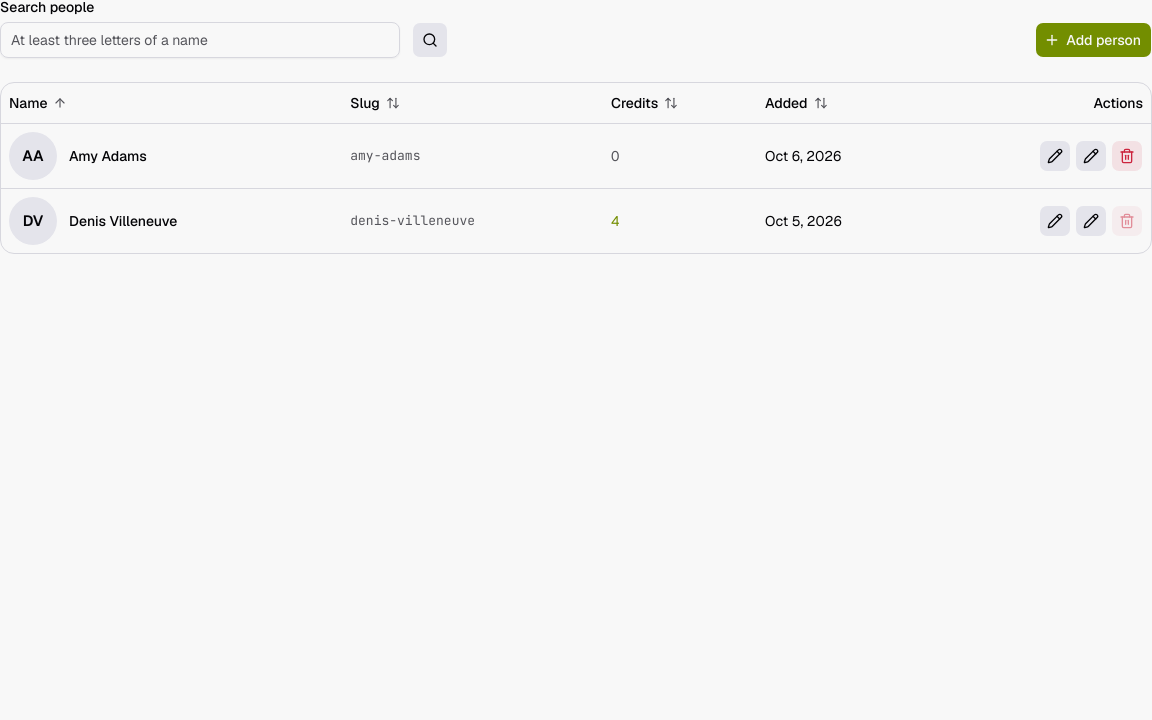
Test: PeopleView › opens a person's photo dialog from their row
The width and height of the screenshot is (1152, 720).
Click the button named "Photo" in the row of "AA". click: coordinates (1055, 156)
box: [1039,140,1071,172]
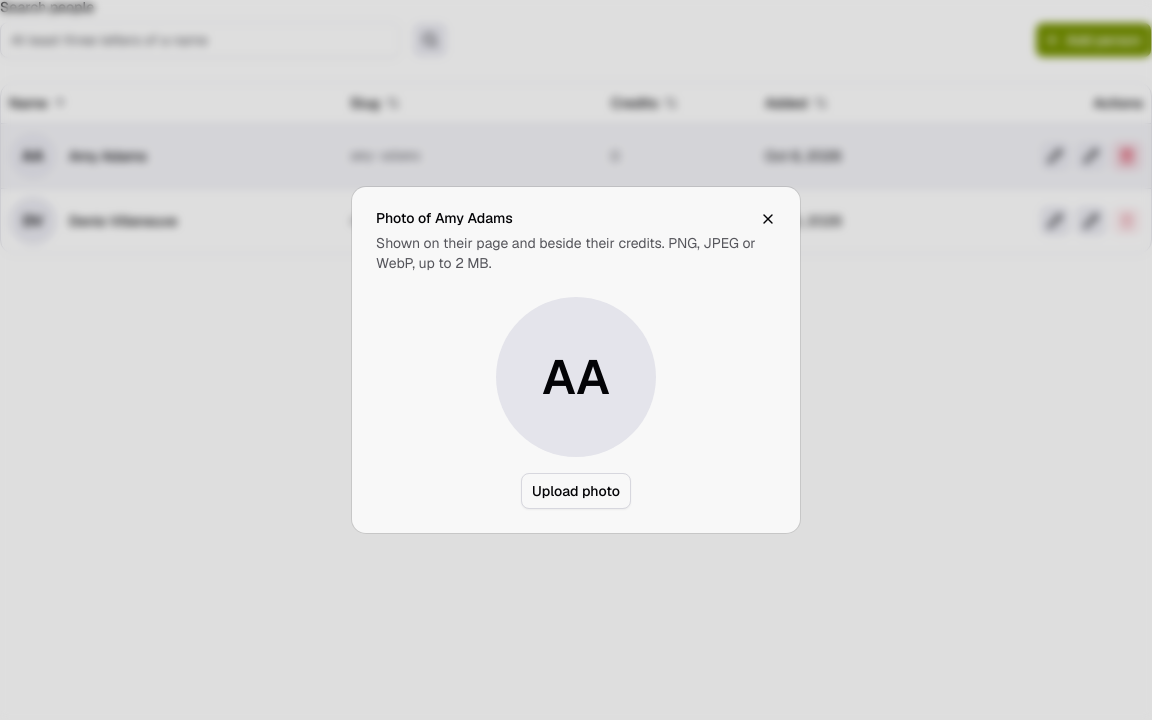
Expected: the dialog "Photo of Amy Adams" is shown, [352,187,800,533]
Expected: the button "Upload photo" is shown, [521,473,631,509]
